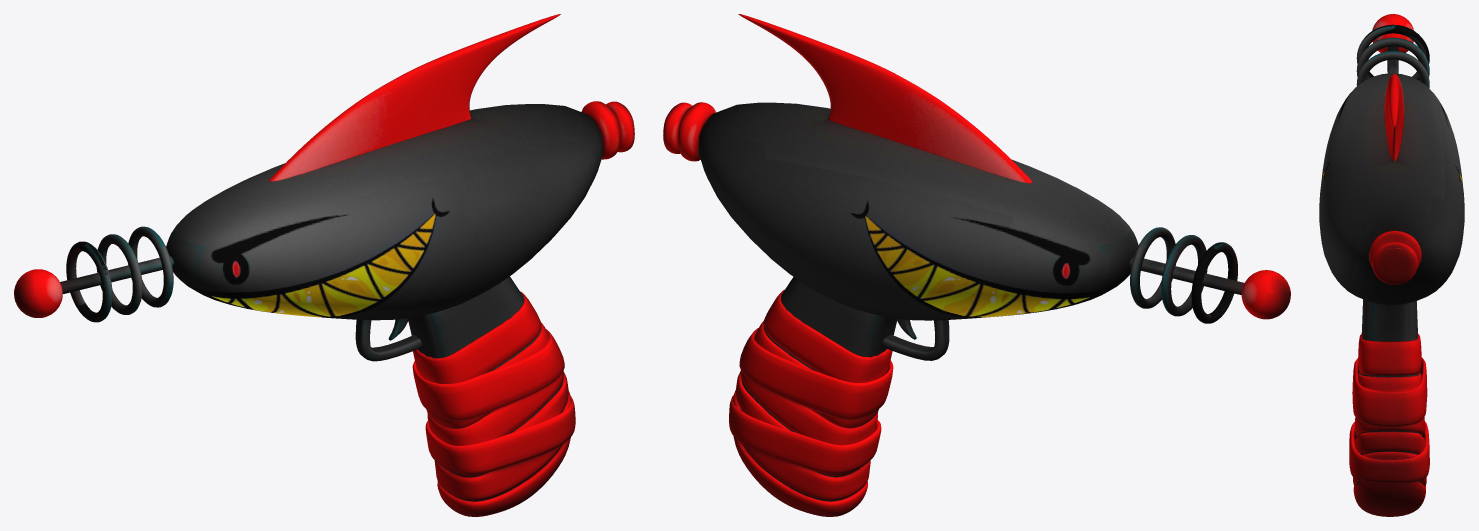
Rendered from Ray Gun (1).glb.
The picture shows the model from 3 angles, left to right: view 1: azimuth 30°, elevation 25°; view 2: azimuth 150°, elevation 25°; view 3: azimuth 270°, elevation 25°; orthographic projection. The views are drawn at different scales.
Parts seen in each view (by area): view 1: Zaid x Crea Ray Gun; view 2: Zaid x Crea Ray Gun; view 3: Zaid x Crea Ray Gun.
Part boxes in pixels (x1=…): Zaid x Crea Ray Gun: x1=14, y1=14, x2=634, y2=516; Zaid x Crea Ray Gun: x1=663, y1=14, x2=1290, y2=516; Zaid x Crea Ray Gun: x1=1319, y1=14, x2=1464, y2=516.
Bounding box in the file's own units: 0.2697 × 0.1997 × 0.0632.
1 material, 1 textured.
